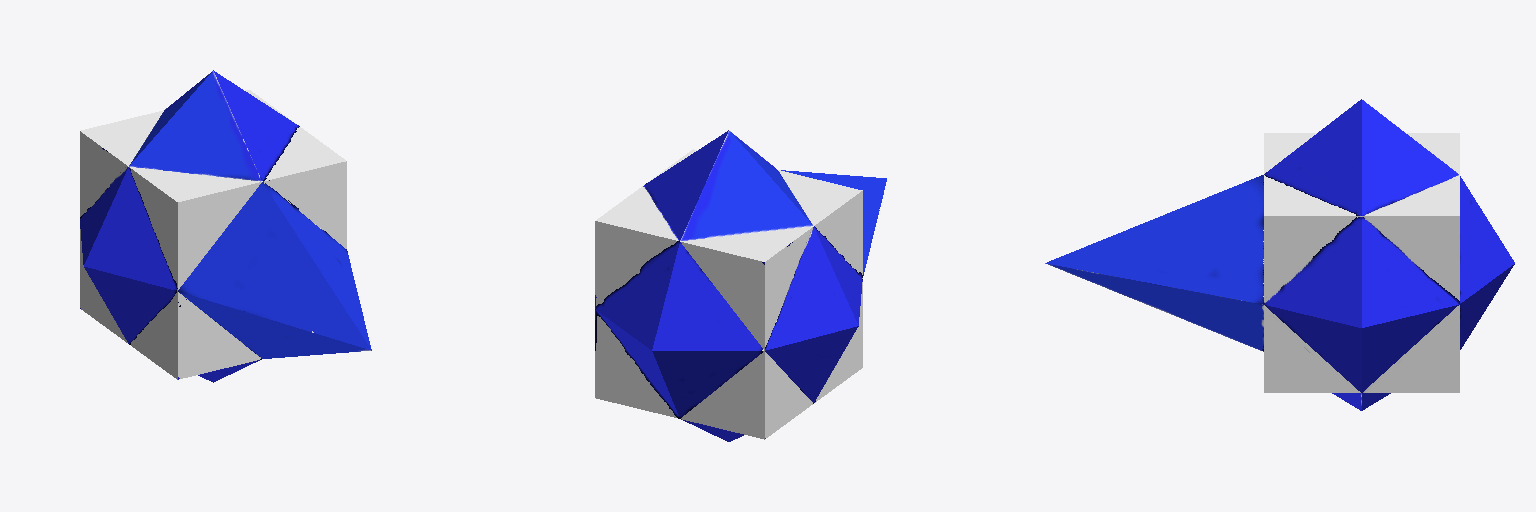
The picture shows the model from 3 angles: view 1: azimuth 30°, elevation 25°; view 2: azimuth 150°, elevation 25°; view 3: azimuth 270°, elevation 25°; orthographic projection.
Parts seen in each view (by area): view 1: Cube; view 2: Cube; view 3: Cube.
Boxes of the visible parts, x1=… form: Cube: x1=80, y1=70, x2=371, y2=382; Cube: x1=595, y1=130, x2=886, y2=441; Cube: x1=1045, y1=99, x2=1514, y2=410.
Bounding box in the file's own units: 3.1 × 3.52 × 4.81.
Materials: 1 (1 with a texture image).